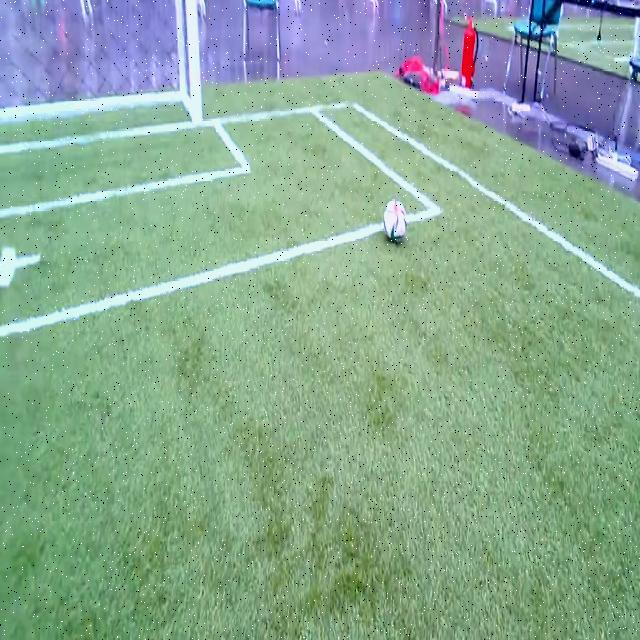ball: (383, 199, 407, 240)
